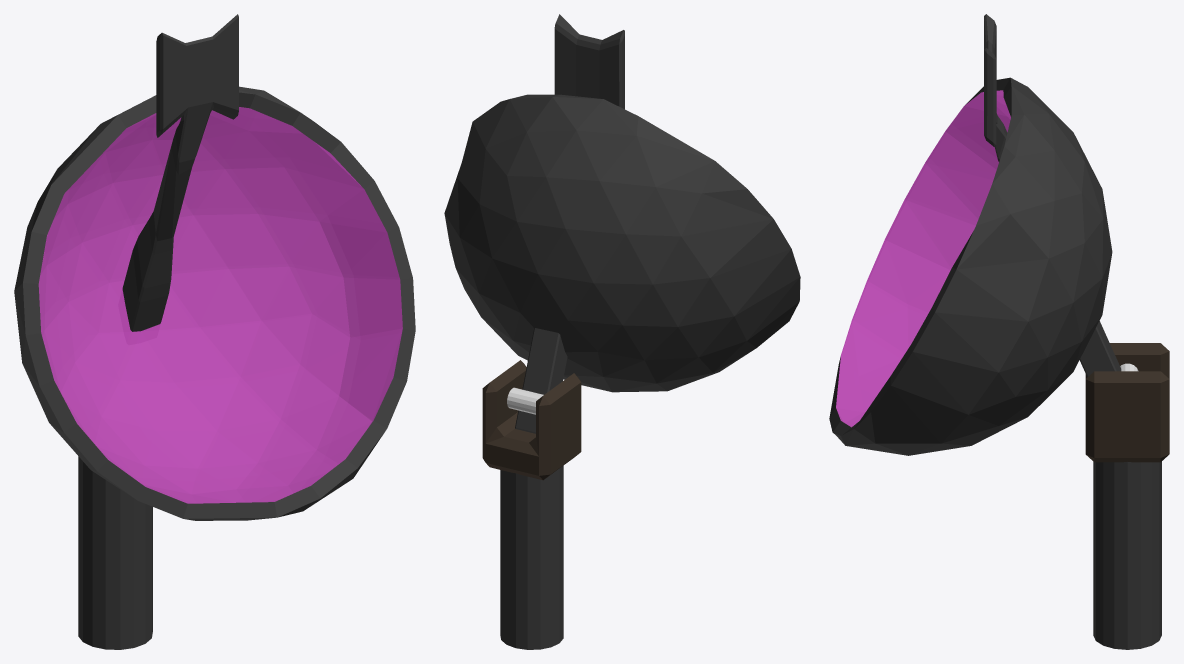
Rendered from DishGurl.fbx.
3 renders of one model, left to right at view 1: azimuth 30°, elevation 25°; view 2: azimuth 150°, elevation 25°; view 3: azimuth 270°, elevation 25°, orthographic. The views are drawn at different scales.
Visible parts, largest first — view 1: Icosphere.015, Cube.007, Radar; view 2: Icosphere.015, Radar, Cube.006, Cube.007, Cylinder.013; view 3: Icosphere.015, Radar, Cube.006, Cube.007.
Boxes of the visible parts, x1,y1,x2,y2 form: Icosphere.015: (14,86,415,520); Cube.007: (118,14,238,344); Radar: (78,456,152,649); Icosphere.015: (444,94,800,392); Radar: (500,465,563,649); Cube.006: (482,360,581,480); Cube.007: (515,14,624,433); Cylinder.013: (507,387,543,414); Icosphere.015: (829,77,1112,455); Radar: (1093,461,1161,649); Cube.006: (1085,343,1169,462); Cube.007: (984,14,1121,376).
Size of the model in its own units: 946 by 1594 by 809.
